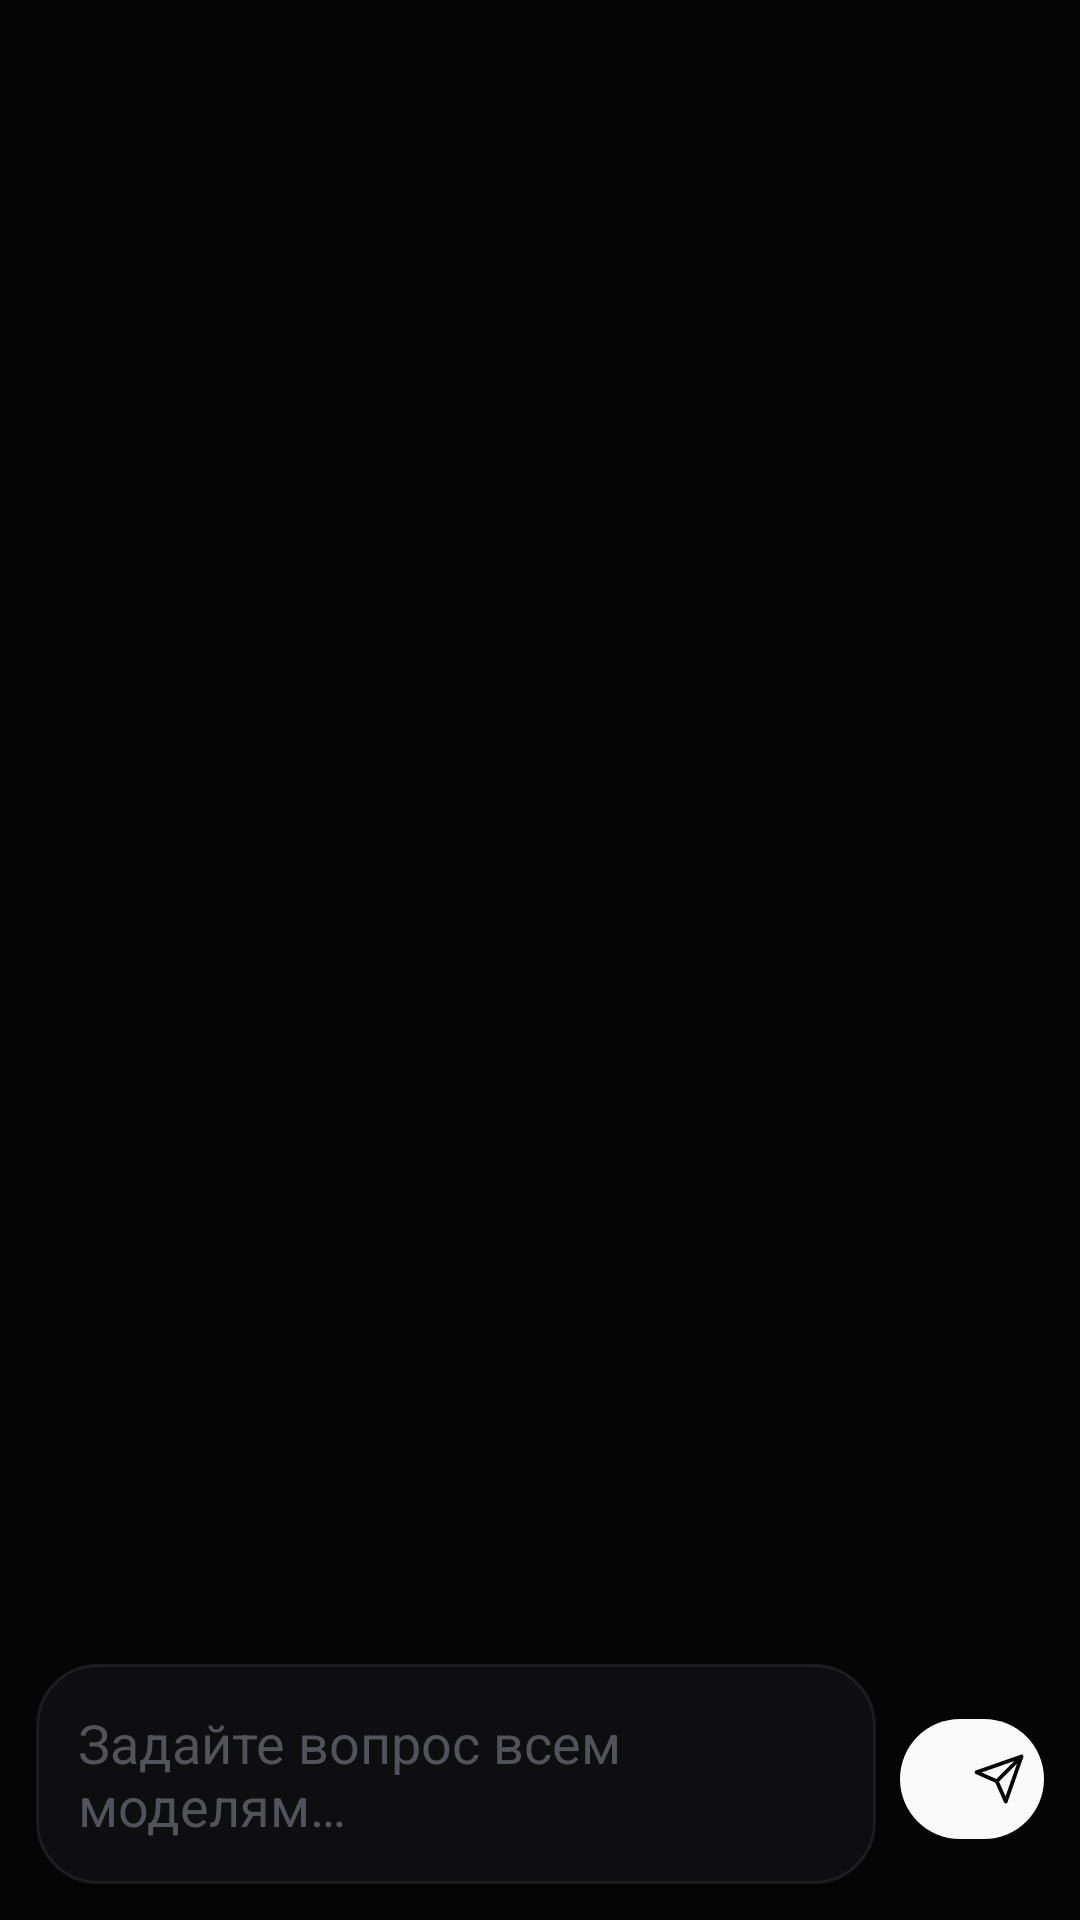

Point at icon controls on the screen. Image size 1080 x 1920, points as (x=x, y=y).
send: (x=972, y=1779)
